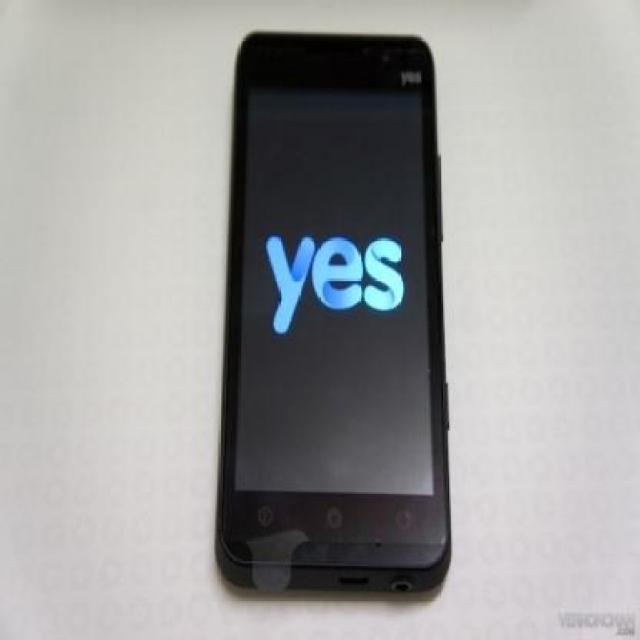phone: (213, 30, 453, 592)
